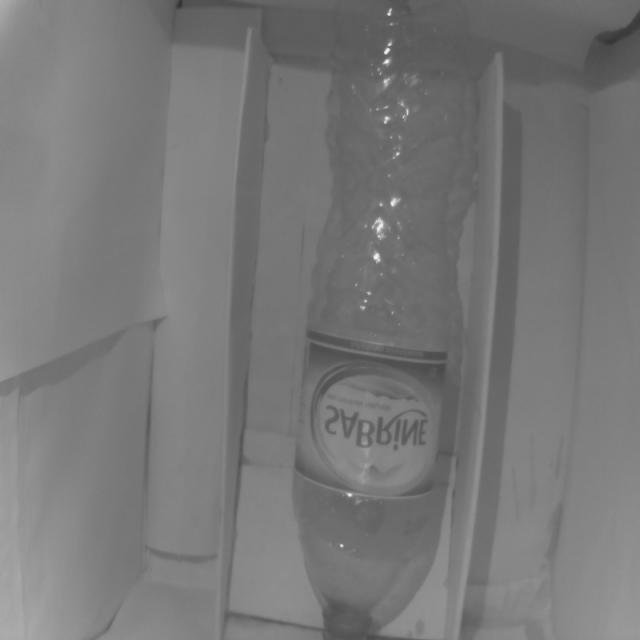bottle: (279, 4, 490, 638)
